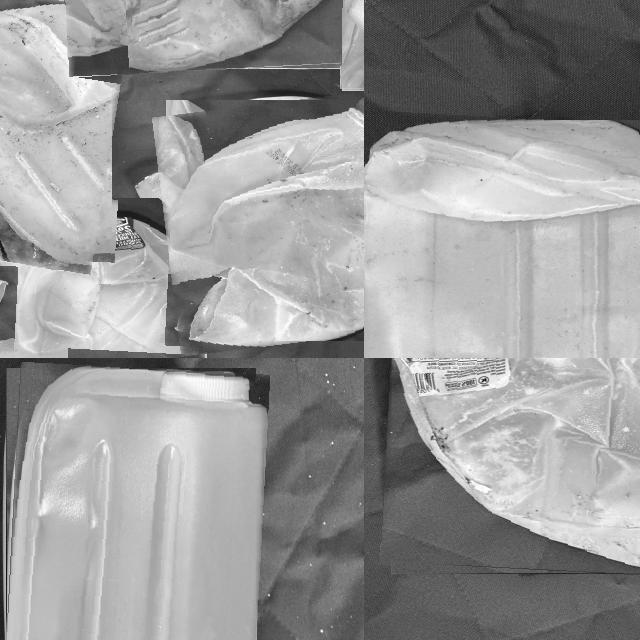milk-jug: (0, 364, 263, 640), (364, 113, 640, 358), (385, 358, 640, 578), (159, 91, 364, 347), (0, 194, 209, 358), (0, 0, 121, 268), (60, 0, 364, 73)
